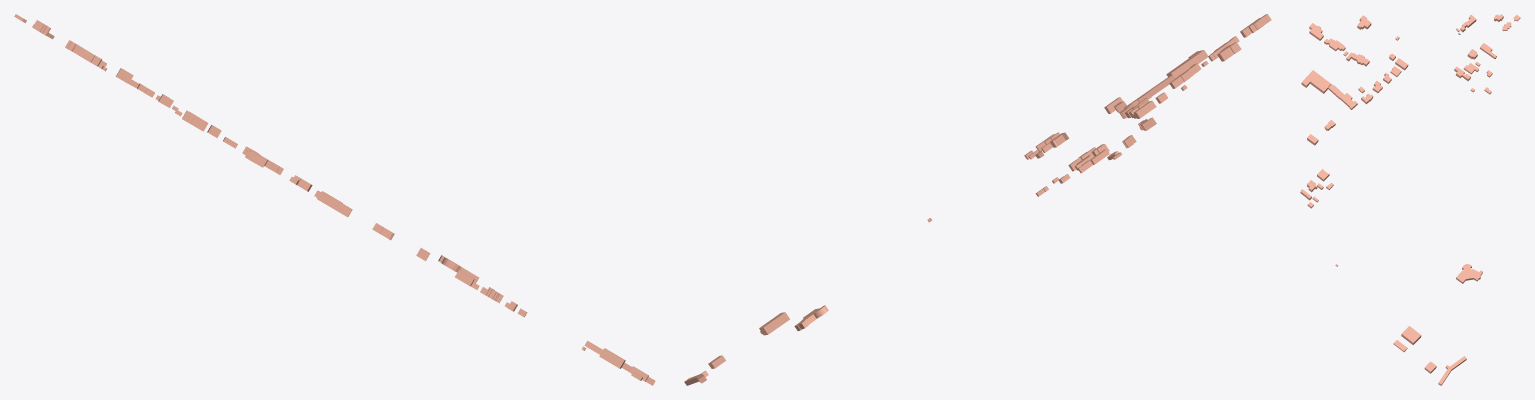
3 renders of one model, left to right at view 1: azimuth 30°, elevation 25°; view 2: azimuth 150°, elevation 25°; view 3: azimuth 270°, elevation 25°, orthographic. The views are drawn at different scales.
Size of the model in its own units: 552 by 431 by 365.
